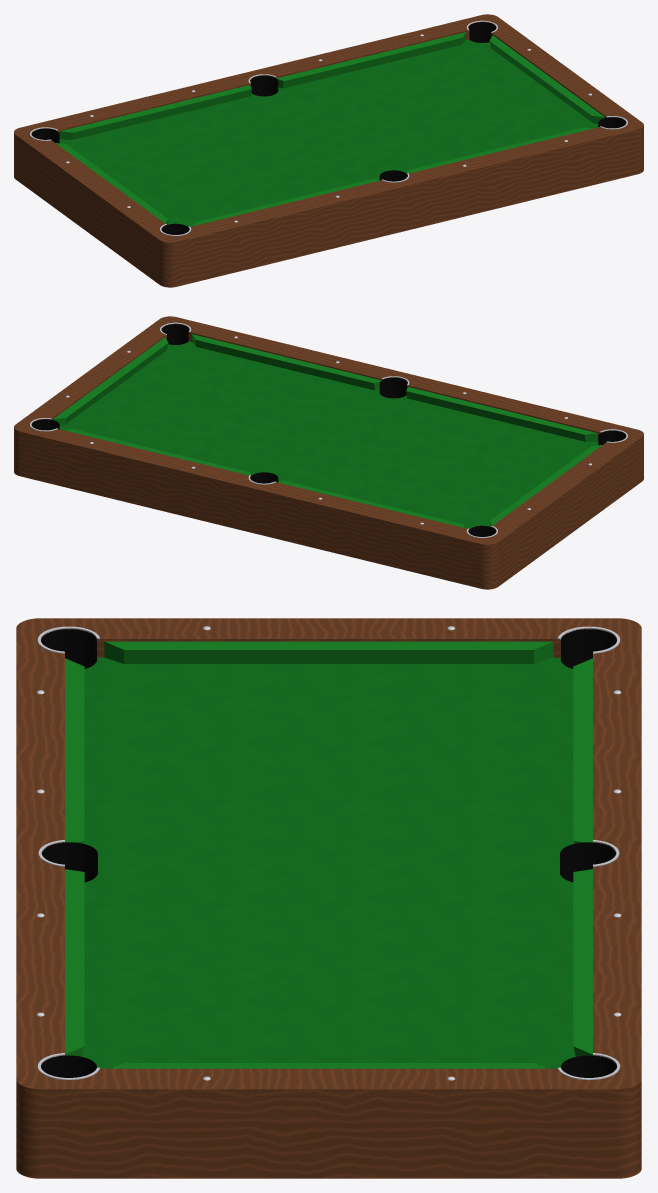
Rendered from table.glb.
3 views of the same model, one above another, from view 1: azimuth 30°, elevation 25°; view 2: azimuth 150°, elevation 25°; view 3: azimuth 270°, elevation 25° (orthographic). The views are drawn at different scales.
Visible parts, largest first — view 1: cloth, rail, cushions, pockets, rims; view 2: cloth, rail, cushions, pockets, rims; view 3: cloth, rail, cushions, pockets, rims.
Part boxes in pixels (x1,y1,x2,y2): cloth: (59,39,598,226); rail: (14,14,643,287); cushions: (55,32,605,225); pockets: (31,22,626,234); rims: (30,20,627,235); cloth: (59,341,598,528); rail: (14,316,643,589); cushions: (52,334,602,527); pockets: (31,324,626,536); rims: (30,322,627,537); cloth: (82,657,575,1068); rail: (16,618,641,1178); cushions: (65,641,592,1068); pockets: (41,629,616,1077); rims: (37,626,620,1079).
Bounding box in the file's own units: 2.28 × 0.2058 × 1.28.
5 materials, 2 textured.
